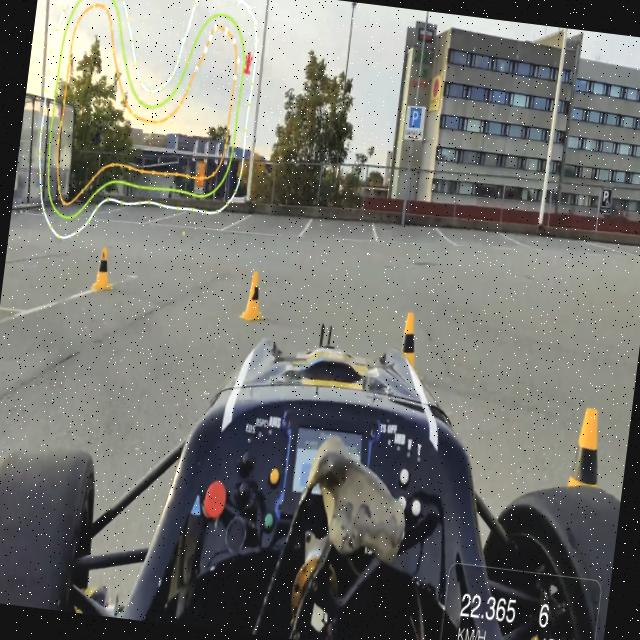yellow_cone: (562, 400, 620, 507), (392, 302, 432, 378), (232, 262, 274, 328), (81, 240, 121, 304)
